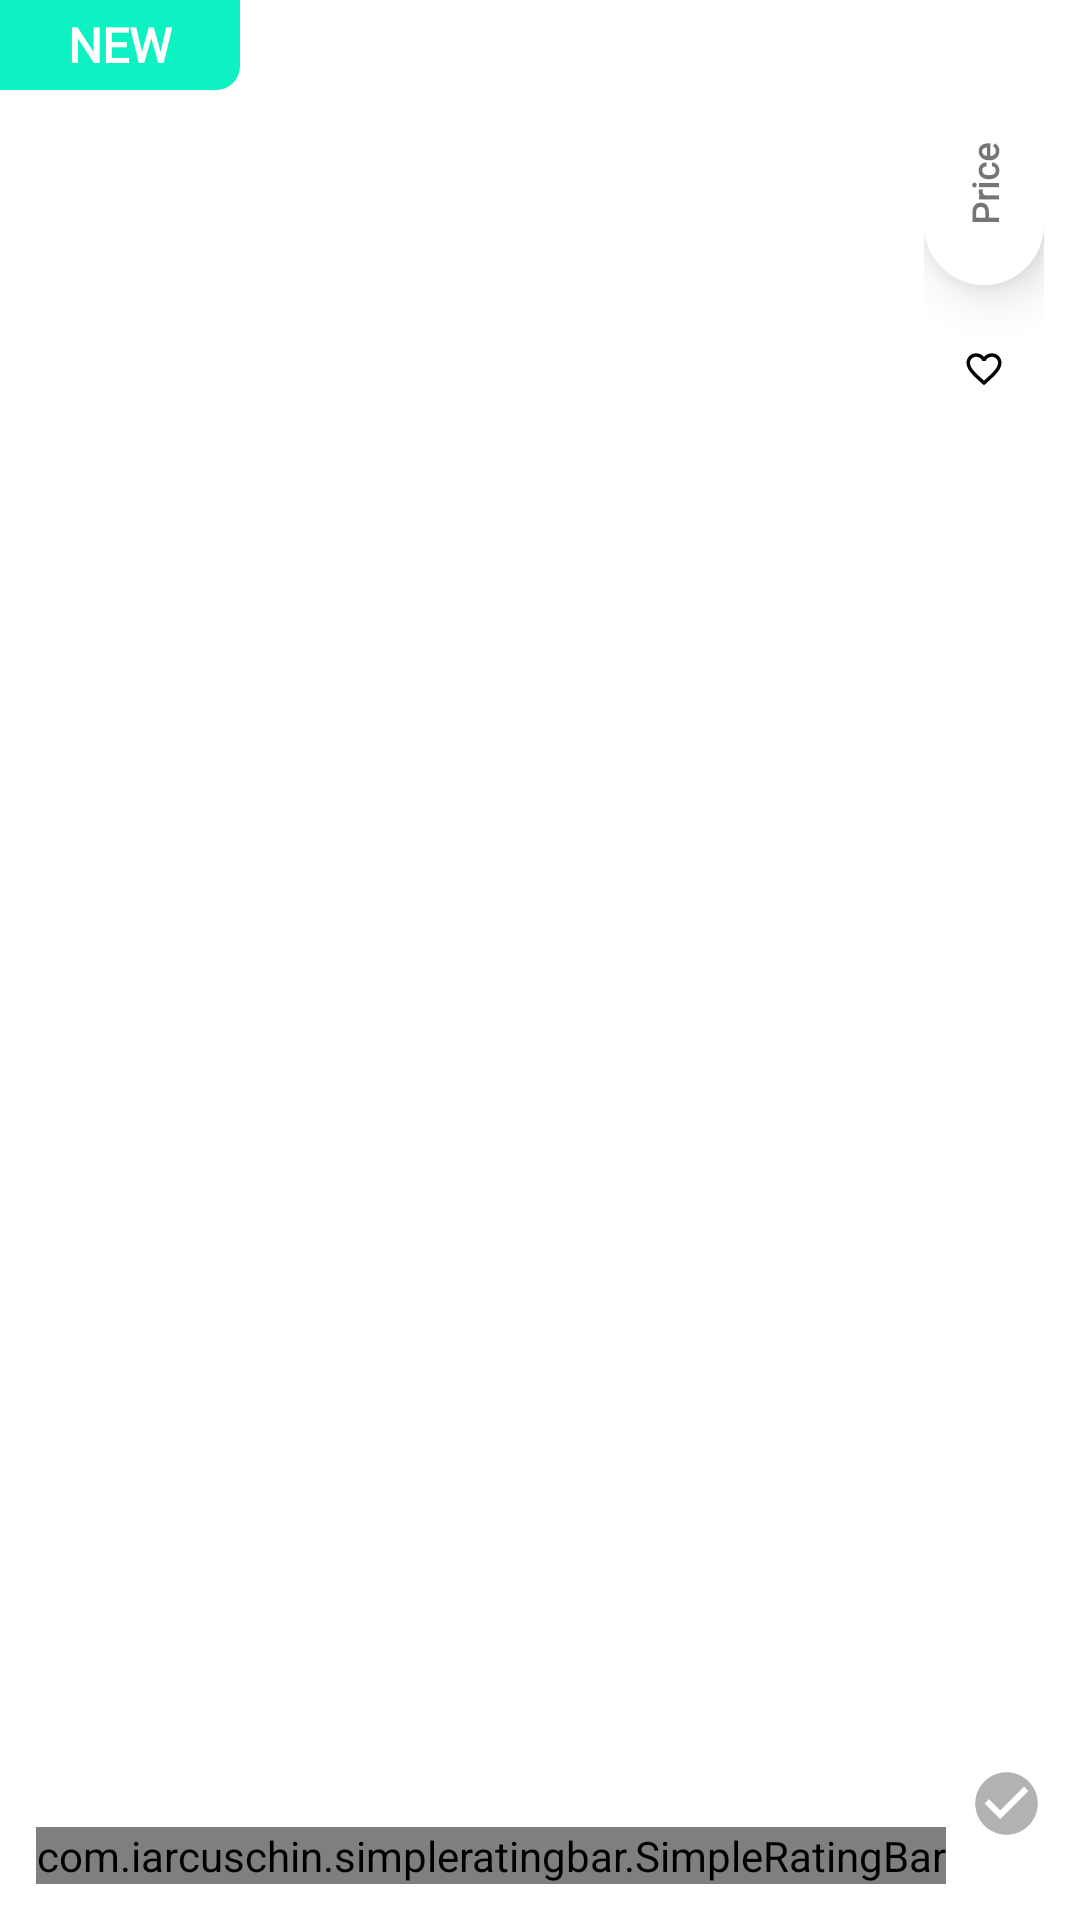

Named icons in this screenshot (1080px x 1920px) and their bounding boxes, bbox(x1, y1, x2, y2):
check circle: bbox(975, 1772, 1038, 1835)
favorite border: bbox(966, 353, 1002, 385)
